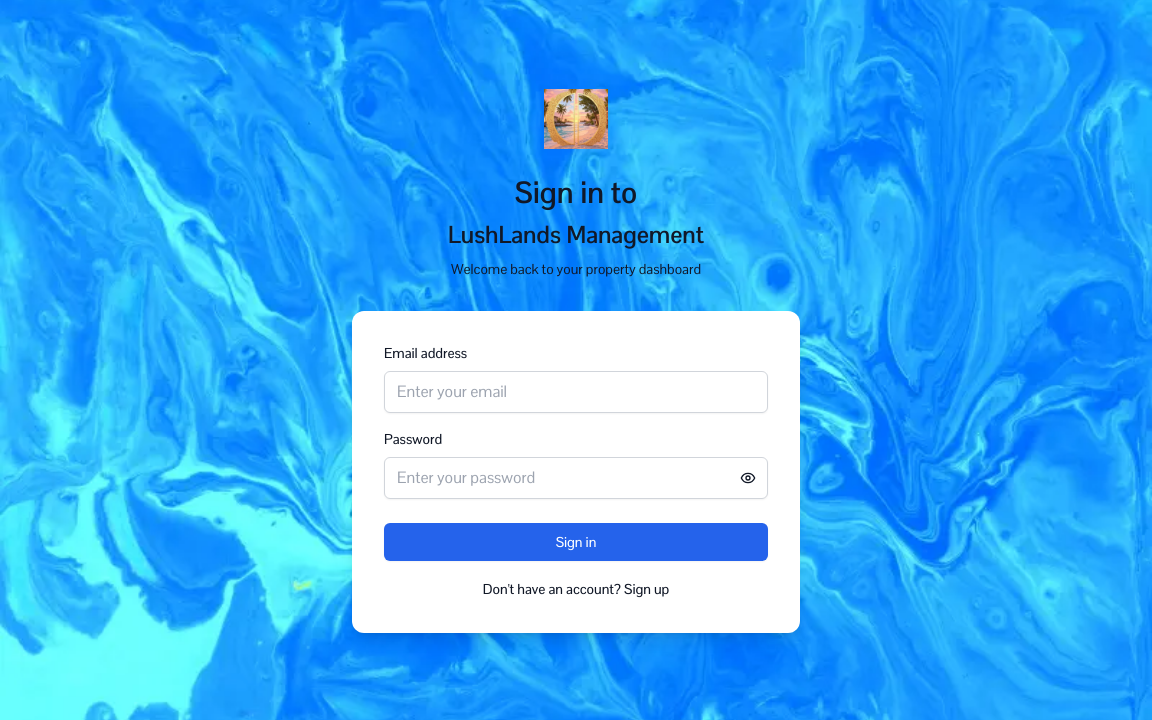
Test: AuthForm sign-up confirmation › keeps the form and shows the error when sign-up fails
Click the button "Don't have an account? Sign up".
click(576, 589)  # box [483, 579, 669, 599]
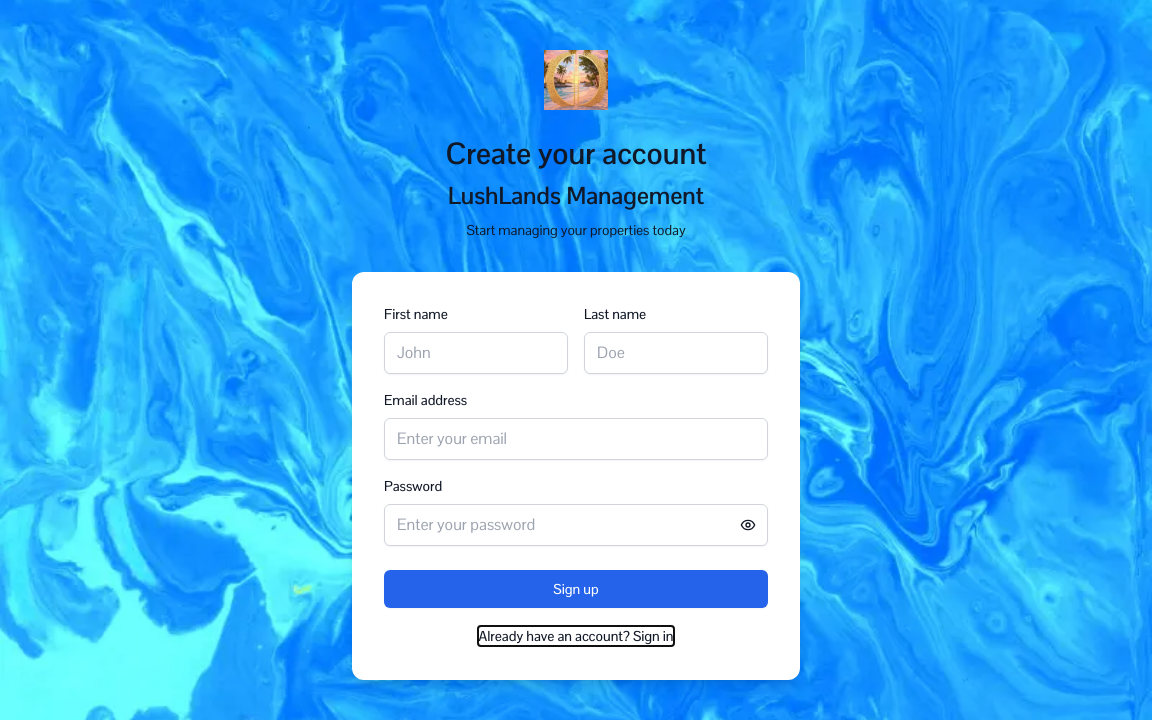
Type "Ada" into the field labelled "First name".
click(476, 353); type("Ada")  # box [384, 332, 568, 374]
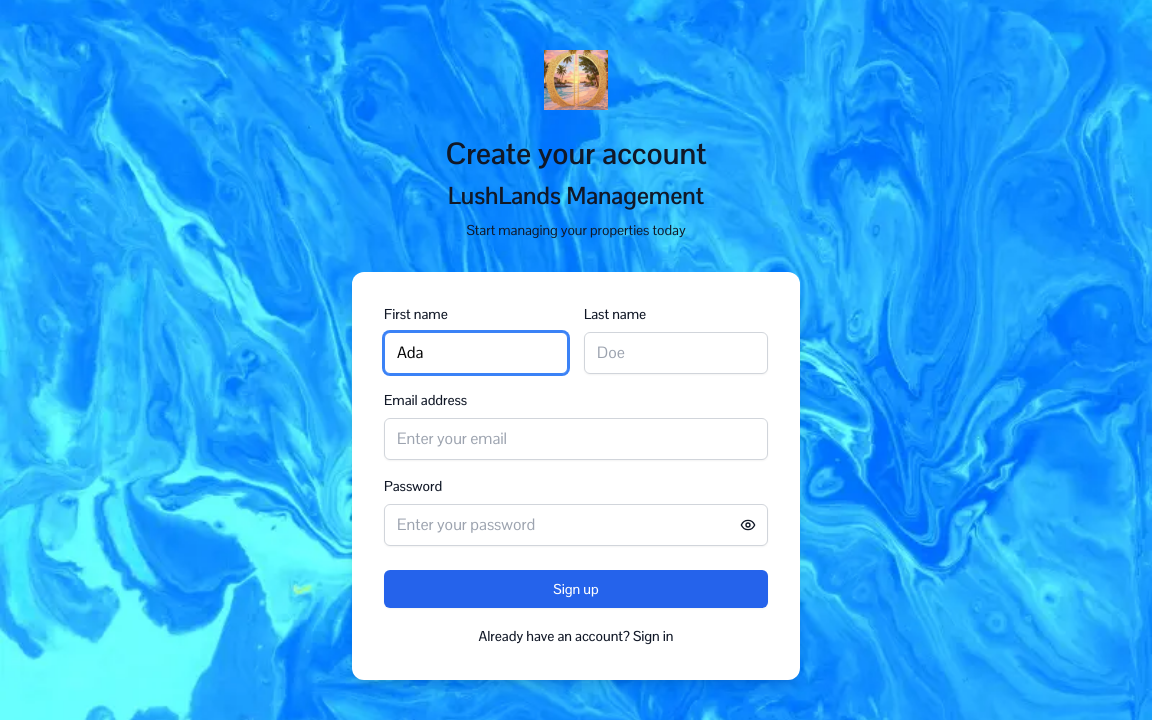
Type "Lovelace" into the field labelled "Last name".
click(676, 353); type("Lovelace")  # box [584, 332, 768, 374]
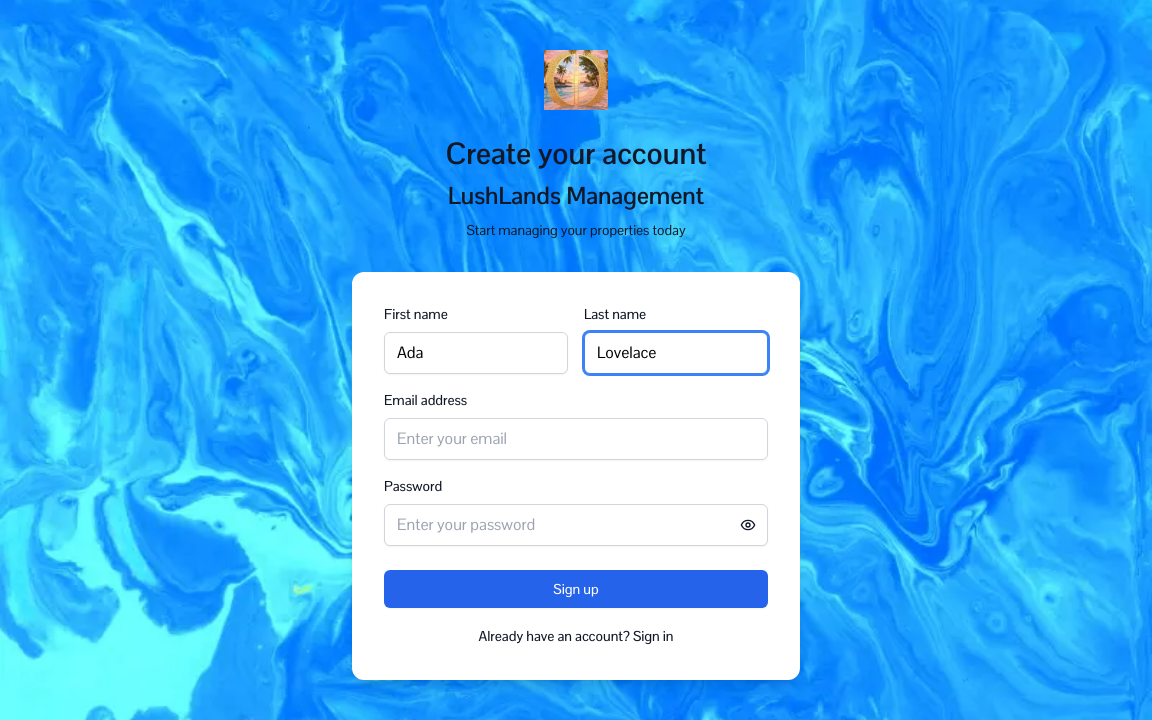
Type "new.tenant@example.test" into the field labelled "Email address".
click(576, 439); type("new.tenant@example.test")  # box [384, 418, 768, 460]
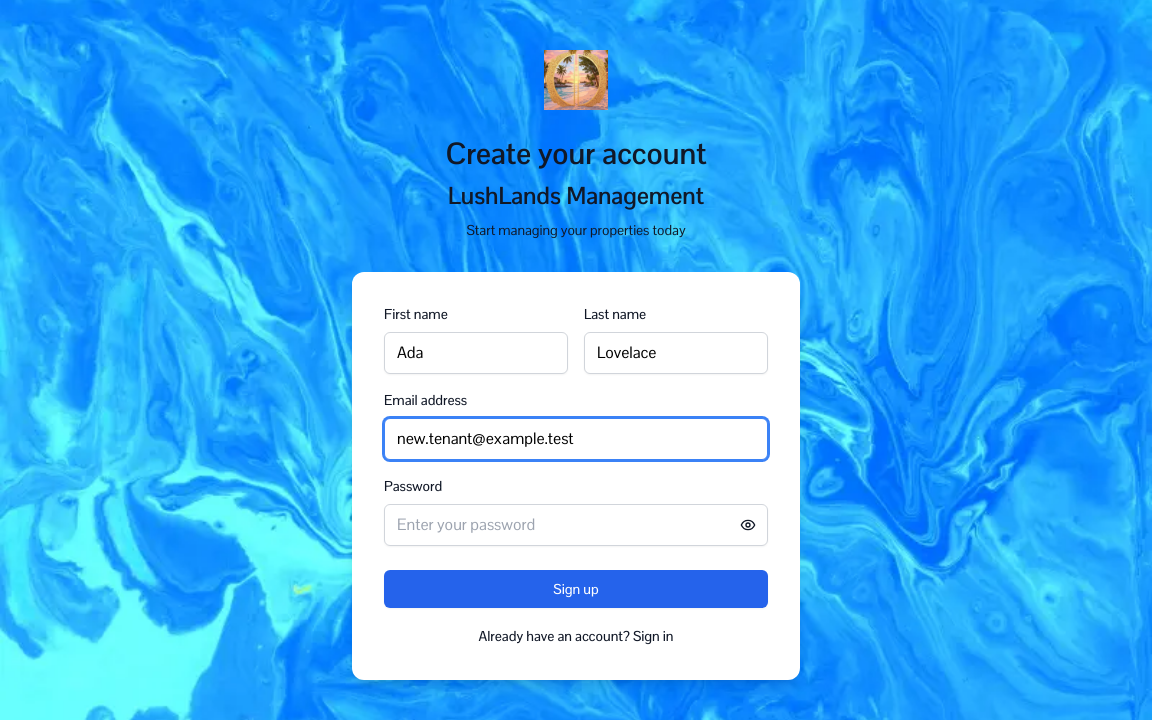
Type "correct-horse-battery" into the password field labelled "Password".
click(576, 525); type("correct-horse-battery")  # box [384, 504, 768, 546]
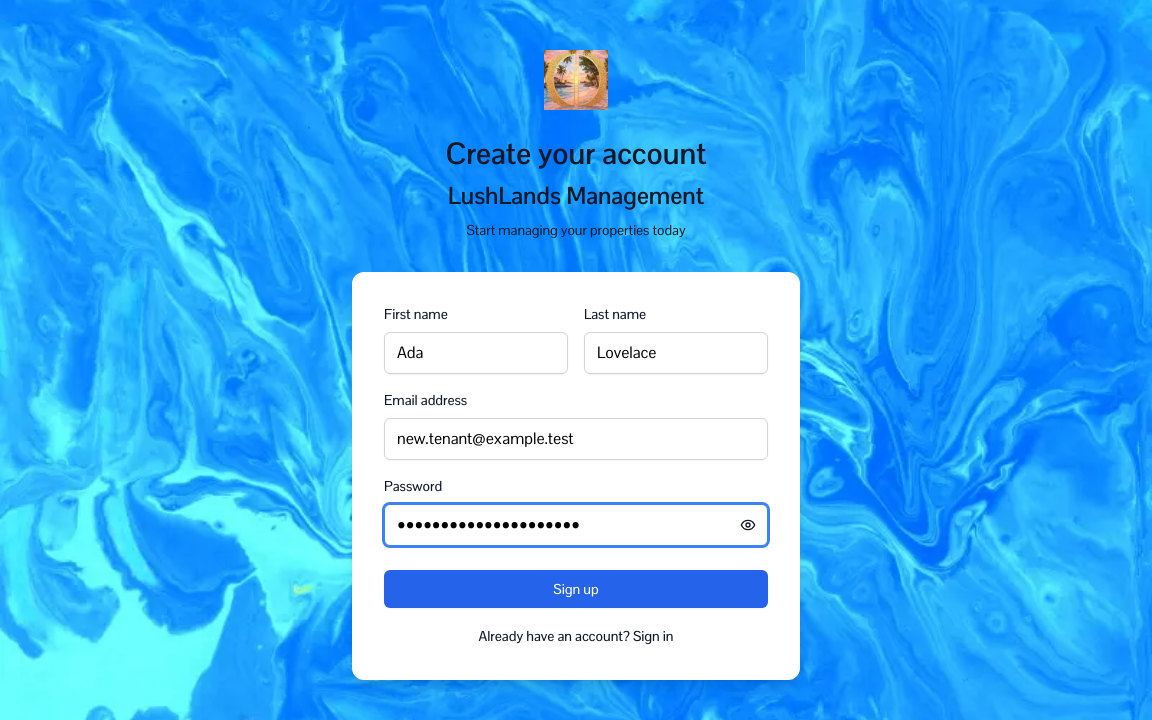
Click the button "Sign up".
click(576, 589)  # box [384, 570, 768, 608]
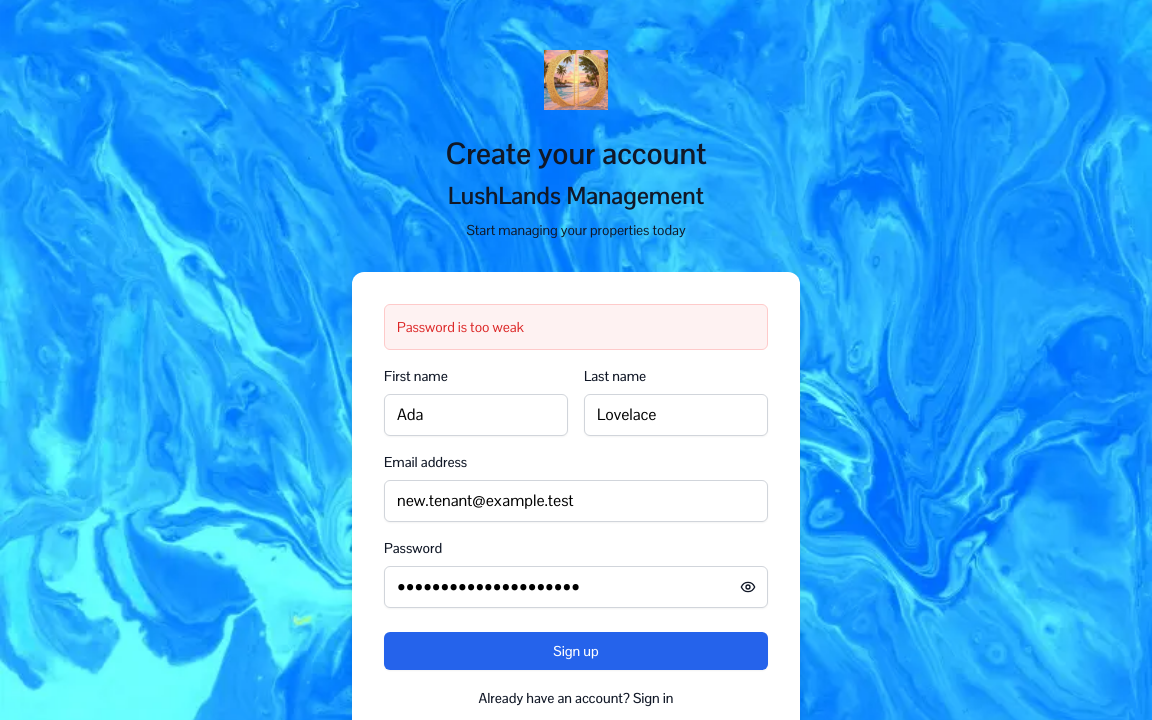
Check: the button "Sign up" is shown, box [384, 632, 768, 670]
Check: the text "Password is too weak" is shown, box [397, 318, 524, 336]
